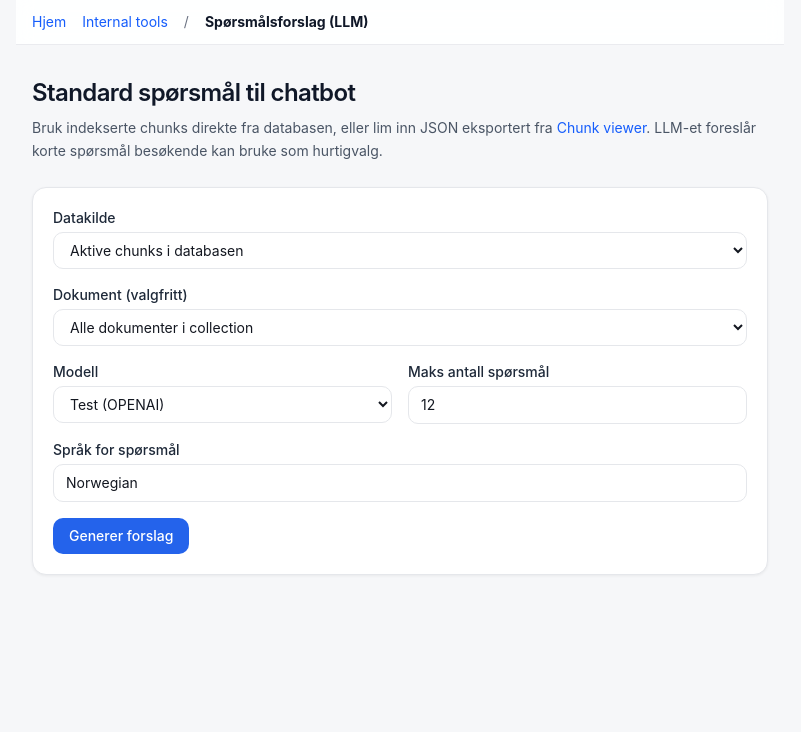
Test: Admin CRUD views (integration-style) › AdminQuestionSuggestionsView generates suggestions from current chunks
Click the button "Generer forslag" at (121, 536), box top-left (53, 518), bottom-right (189, 554)
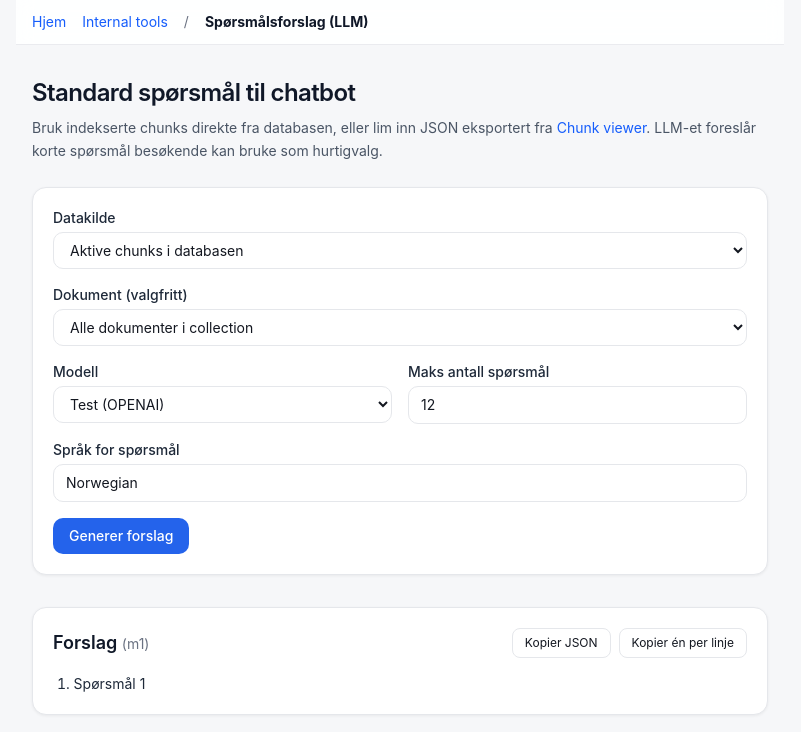
expect the text "Spørsmål 1" is shown: met, box top-left (74, 674), bottom-right (145, 692)
